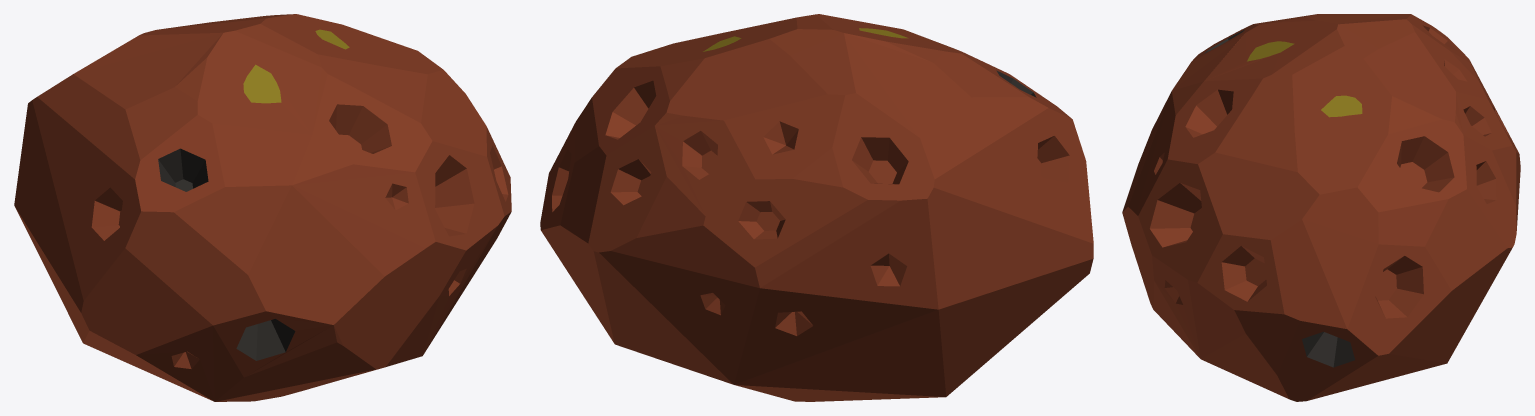
Rendered from red-scoria-rock-35bb9c.glb.
The picture shows the model from 3 angles, left to right: view 1: azimuth 30°, elevation 25°; view 2: azimuth 150°, elevation 25°; view 3: azimuth 270°, elevation 25°; orthographic projection. The views are drawn at different scales.
Visible parts, largest first — view 1: stone; view 2: stone; view 3: stone.
Part boxes in pixels (x1,y1,x2,y2): stone: (14,14,511,401); stone: (540,14,1093,401); stone: (1122,14,1520,401).
Size of the model in its own units: 0.5981 by 0.4023 by 0.4815.
